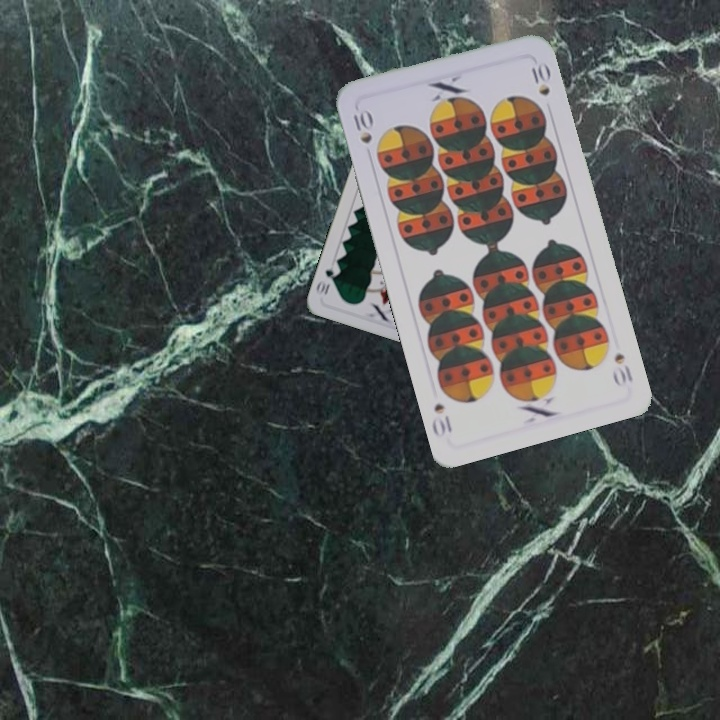S10: (348, 105, 375, 146), (609, 348, 635, 389)
